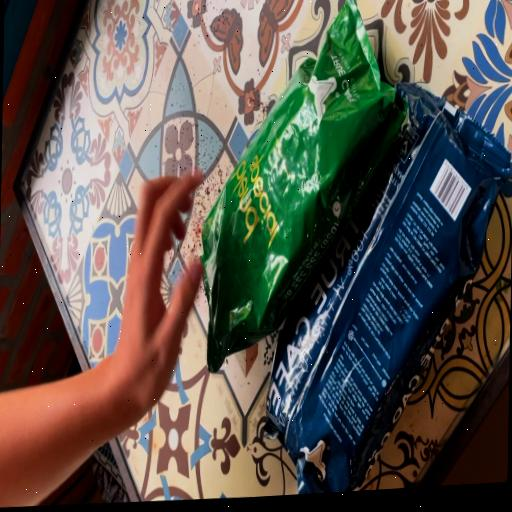cafe_hat: (265, 82, 510, 494)
cafe_xay: (202, 0, 407, 371)
